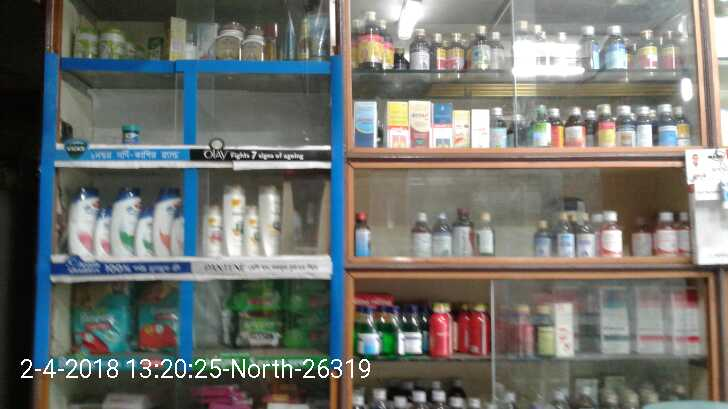vicks: (121, 124, 142, 144)
